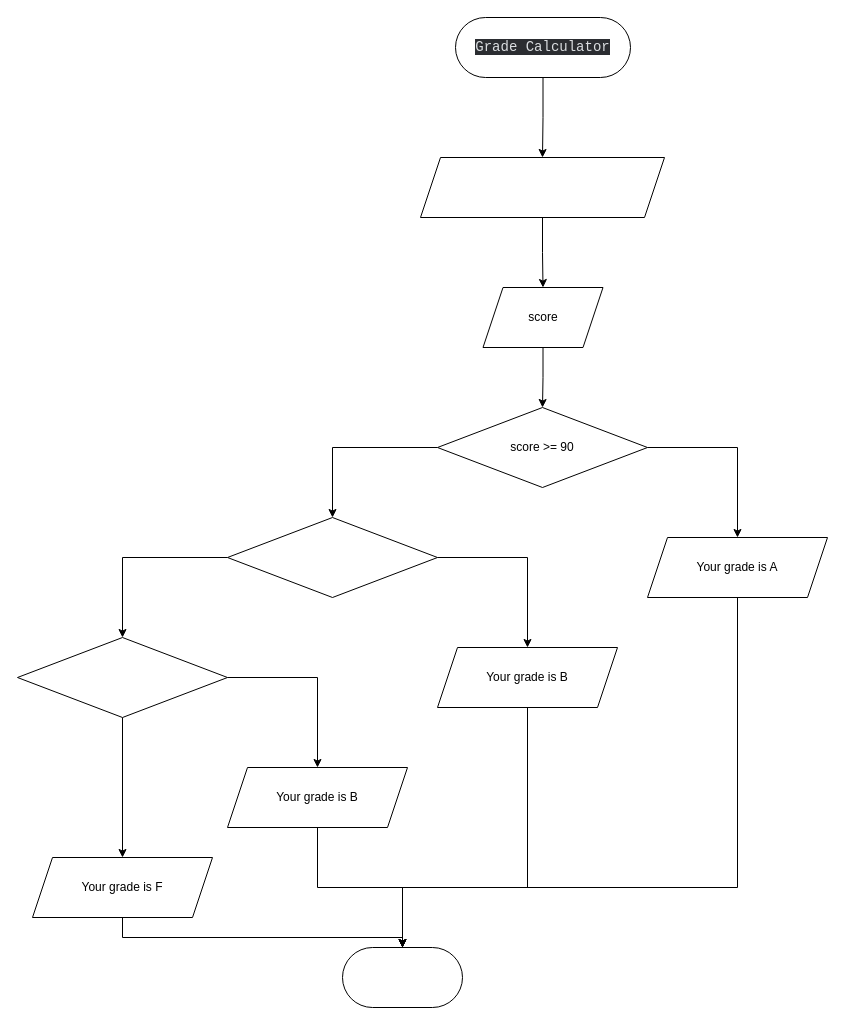
Some shapes in this 845 by 1025 pixel diagram are drawn without their labels. Each missing label, with the box of its shape:
END: (342, 946, 462, 1008)
Enter your score >>>: (420, 156, 664, 218)
score >= 70 and score <= 79: (16, 636, 228, 718)
score >= 80 and score <= 90: (226, 516, 438, 598)
